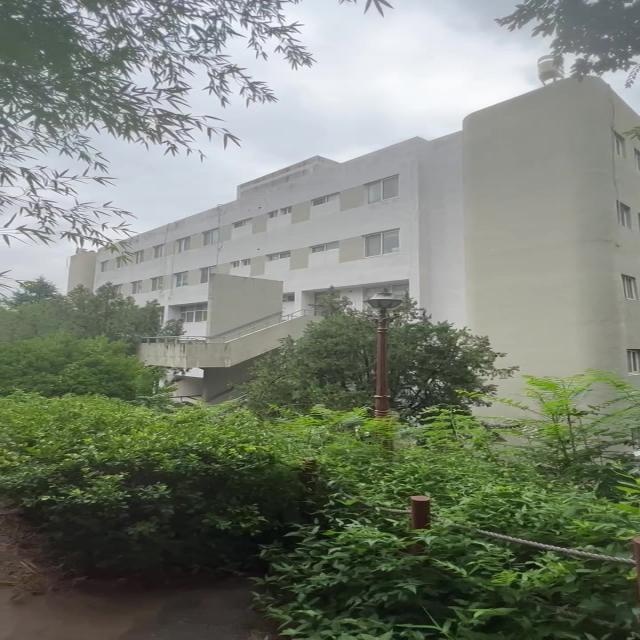building: (187, 134, 638, 324)
